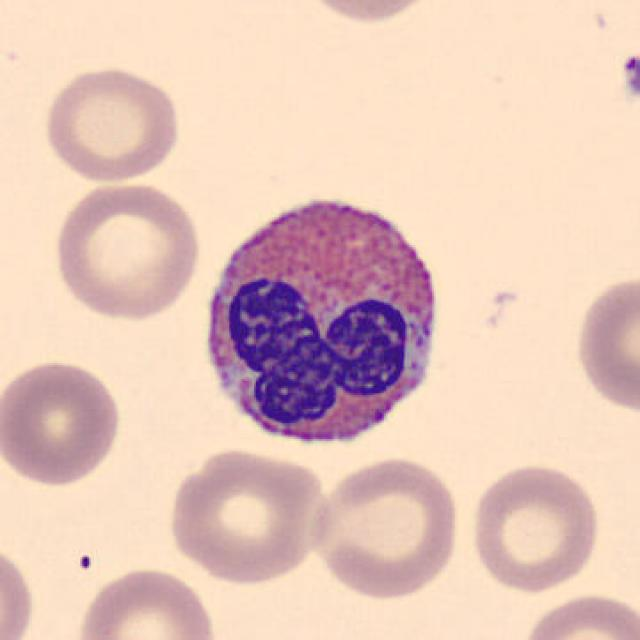Eosinophil: (192, 178, 453, 462)
Platelets: (615, 48, 640, 108)
RBC: (164, 443, 330, 587), (306, 453, 464, 601), (48, 178, 204, 323), (466, 458, 604, 596), (39, 62, 185, 185), (0, 354, 126, 490), (71, 562, 222, 640), (569, 270, 638, 418), (516, 589, 638, 640), (292, 0, 446, 28), (0, 536, 39, 640)
